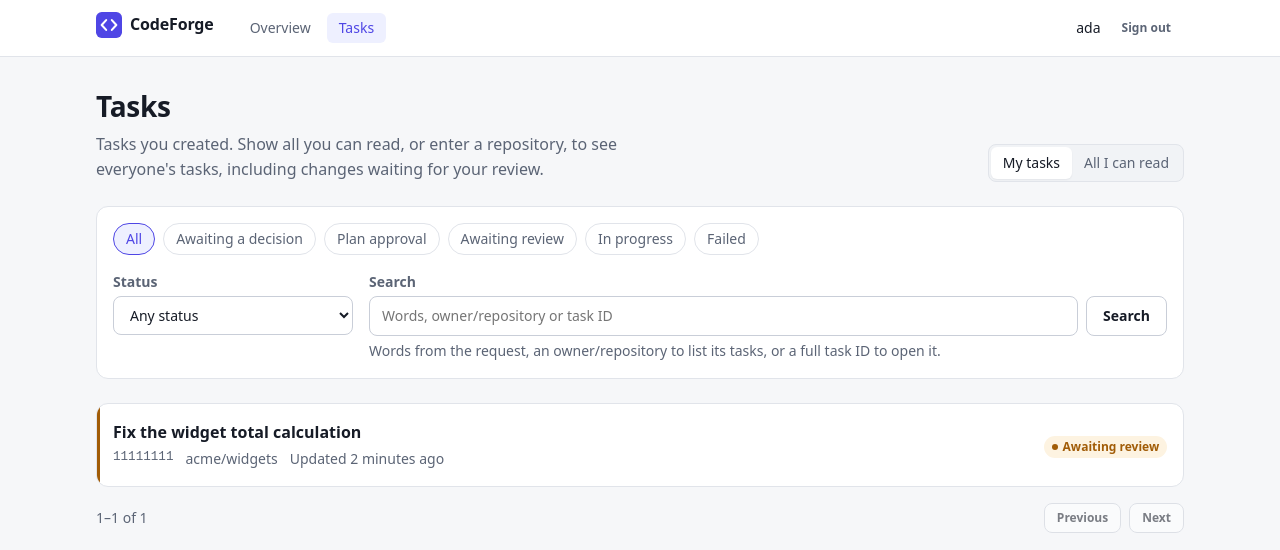
Test: task list › filters by status and by repository through the API
Check: the list is shown, box [96, 403, 1184, 487]
Click the button "Awaiting review". click: [512, 239]
box: [448, 223, 577, 255]
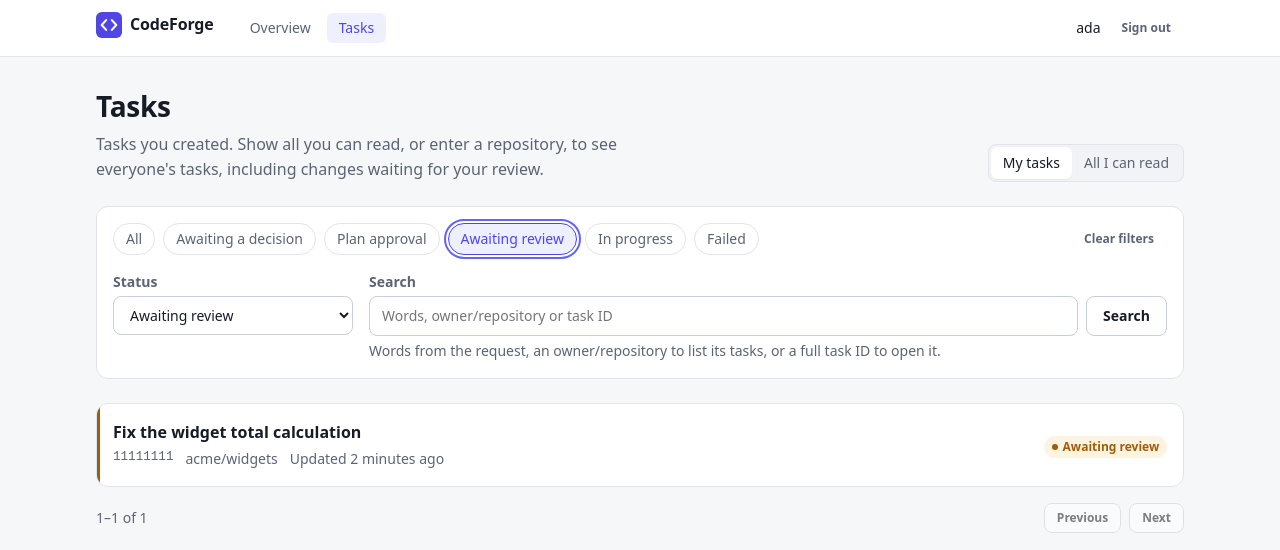
Check: the button "Awaiting review" is pressed, box [448, 223, 577, 255]
Type "acme/widgets" into the search field labelled "Search". click: [724, 316]
box: [369, 296, 1078, 336]
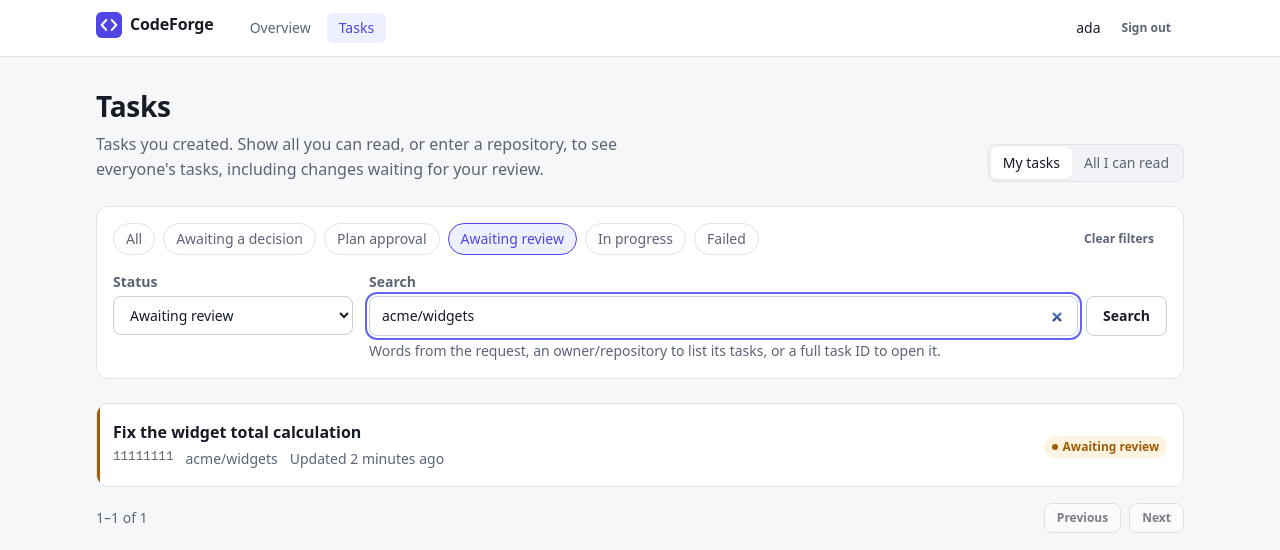
Click the button "Search". click: [1127, 316]
box: [1086, 296, 1167, 336]
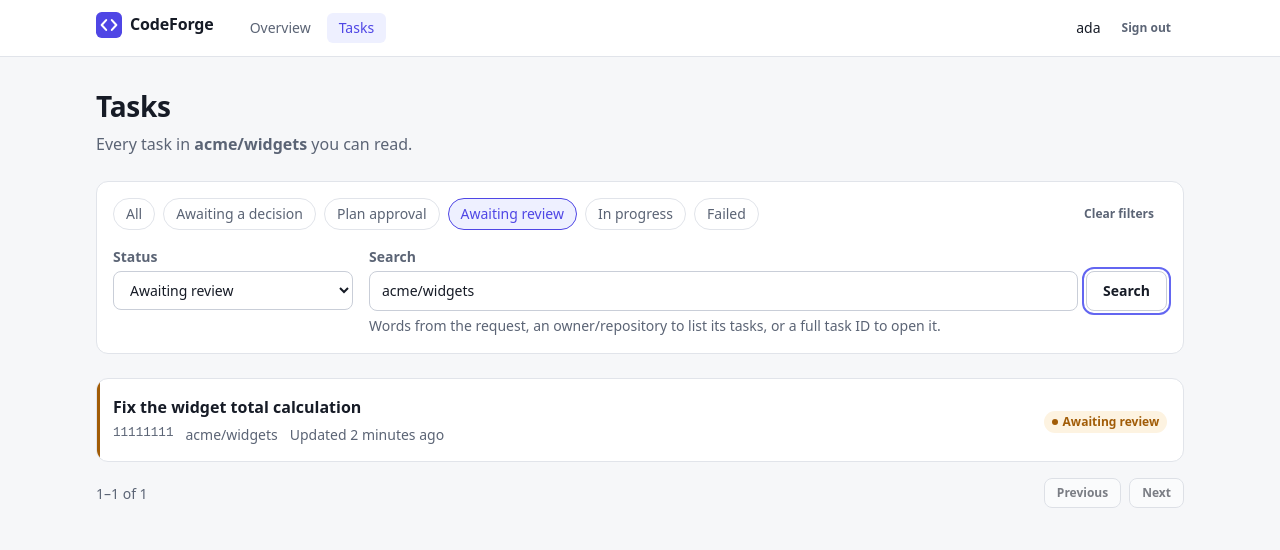
Check: the text "acme/widgets" next to "Every task in" is shown, box [194, 133, 307, 155]
